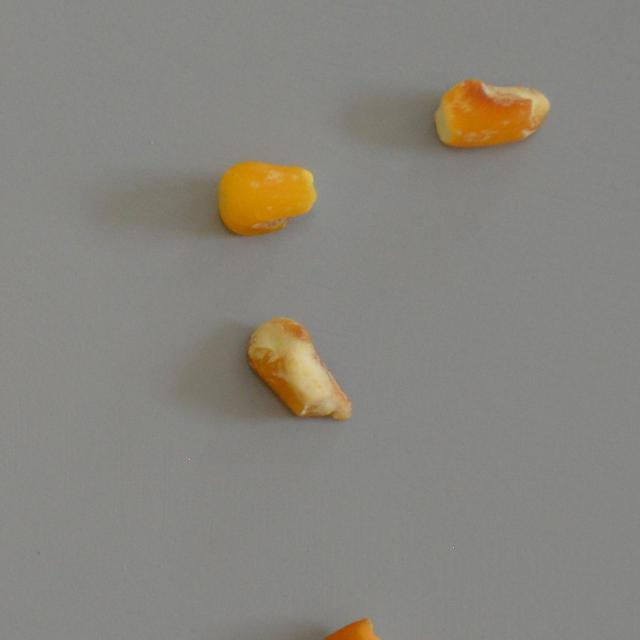dañado: (240, 312, 356, 434), (424, 72, 560, 152), (213, 153, 326, 242), (281, 613, 399, 640)
